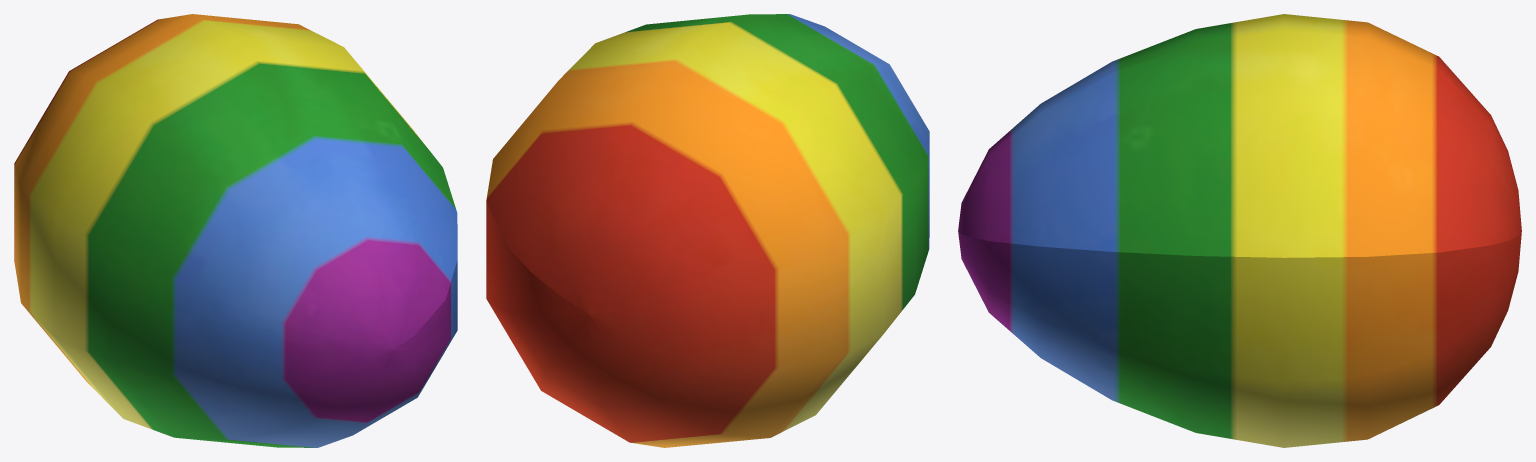
Rendered from huevo_8.fbx.
The picture shows the model from 3 angles, left to right: view 1: azimuth 30°, elevation 25°; view 2: azimuth 150°, elevation 25°; view 3: azimuth 270°, elevation 25°; orthographic projection.
Visible parts, largest first — view 1: s4studio_mesh_0; view 2: s4studio_mesh_0; view 3: s4studio_mesh_0.
Part boxes in pixels (box(x1,y1,x2,y2)): s4studio_mesh_0: box(14, 14, 457, 447); s4studio_mesh_0: box(486, 14, 929, 447); s4studio_mesh_0: box(958, 14, 1521, 447).
Bounding box in the file's own units: 5.59 × 5.88 × 7.5.
Materials: 1 (1 with a texture image).
